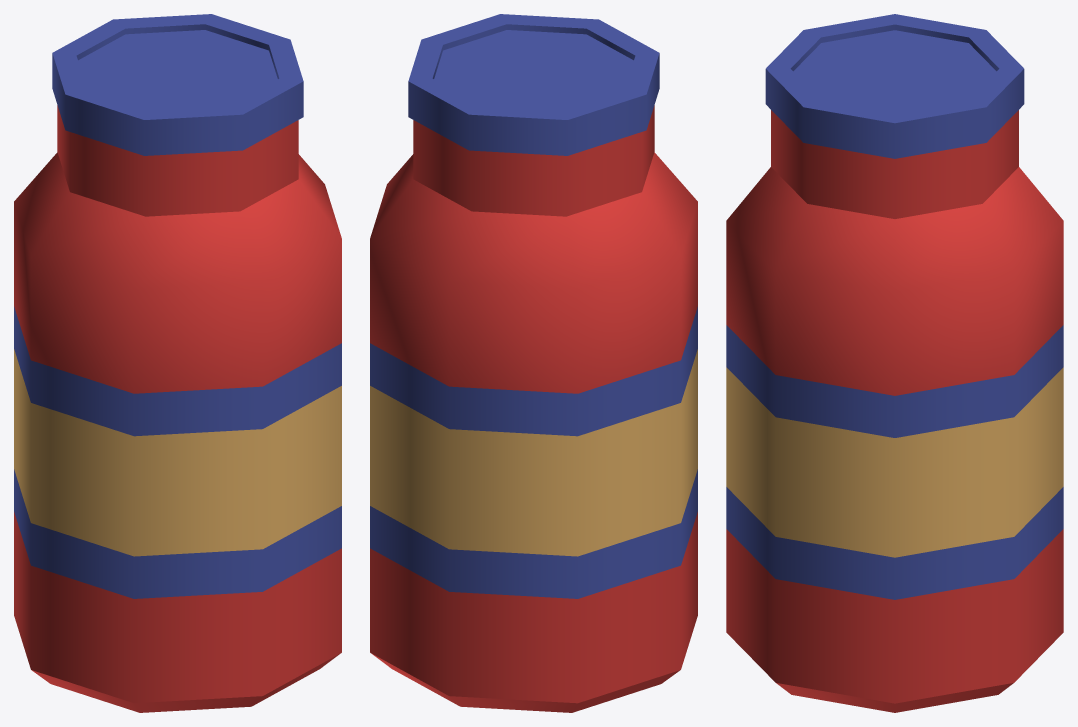
The model's file is BubbleBlower_01.fbx.
The picture shows the model from 3 angles, left to right: view 1: azimuth 30°, elevation 25°; view 2: azimuth 150°, elevation 25°; view 3: azimuth 270°, elevation 25°; orthographic projection.
Parts seen in each view (by area): view 1: BubbleBlower_01, BubbleBlower_01_Top; view 2: BubbleBlower_01, BubbleBlower_01_Top; view 3: BubbleBlower_01, BubbleBlower_01_Top.
Part boxes in pixels (x1,y1,x2,y2): BubbleBlower_01: (14, 105, 341, 712); BubbleBlower_01_Top: (52, 14, 303, 155); BubbleBlower_01: (370, 105, 697, 712); BubbleBlower_01_Top: (408, 14, 659, 155); BubbleBlower_01: (726, 110, 1063, 712); BubbleBlower_01_Top: (765, 14, 1024, 158).
Bounding box in the file's own units: 0.1408 × 0.2681 × 0.1408.
